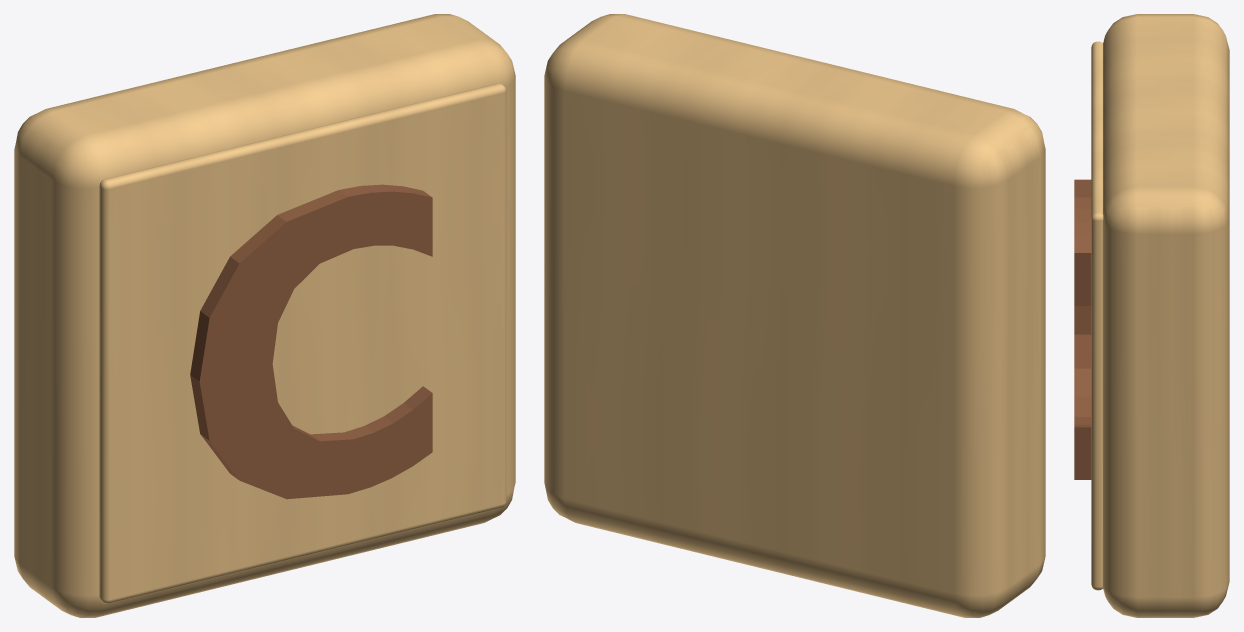
3 views of the same model, side by side, from view 1: azimuth 30°, elevation 25°; view 2: azimuth 150°, elevation 25°; view 3: azimuth 270°, elevation 25° (orthographic). The views are drawn at different scales.
Parts seen in each view (by area): view 1: Tile_C; view 2: Tile_C; view 3: Tile_C.
Part boxes in pixels (x1,y1,x2,y2): Tile_C: (14, 14, 515, 617); Tile_C: (544, 14, 1045, 617); Tile_C: (1074, 14, 1229, 617).
Size of the model in its own units: 0.21 by 0.21 by 0.069.
Materials: 2 (1 with a texture image).
